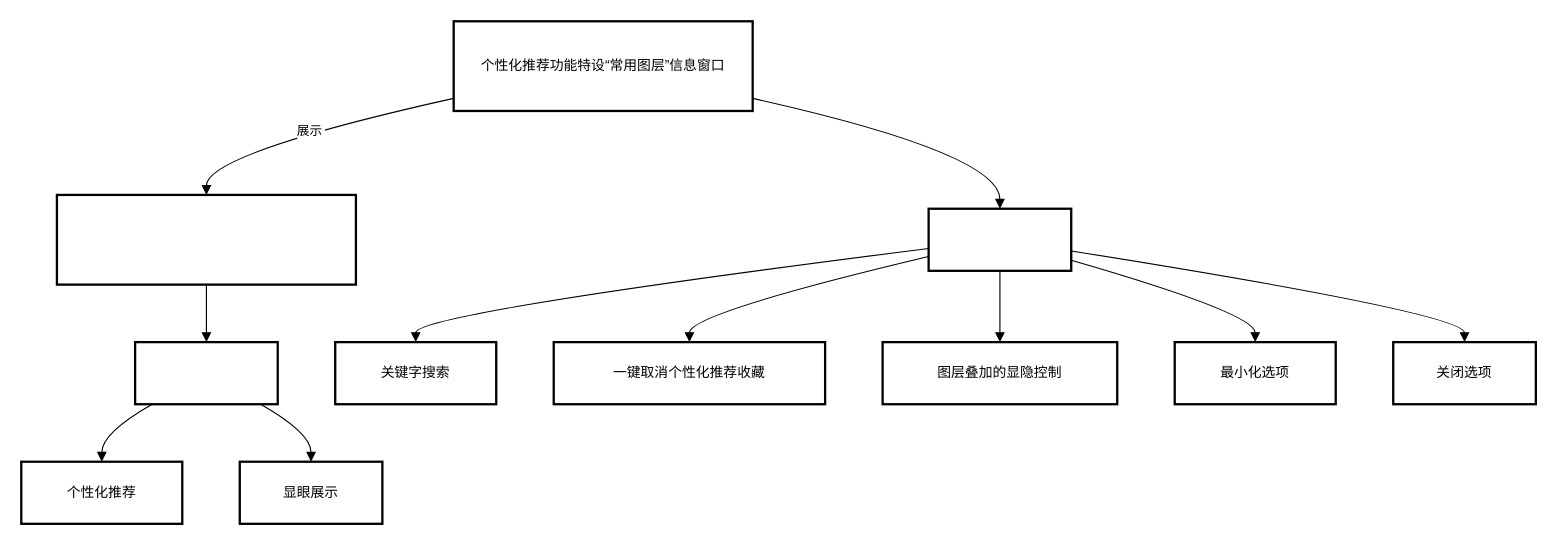
Some shapes in this 1556 by 544 pixel diagram are drawn without their labels. The shapes that lost their labels are listed below. From the top down, each one's centre as x and y in pixels, then its label:
At (x=205, y=239): "用户日常频繁使用的个性化收藏图层".
At (x=999, y=239): "操作功能".
At (x=205, y=372): "精选图层".
